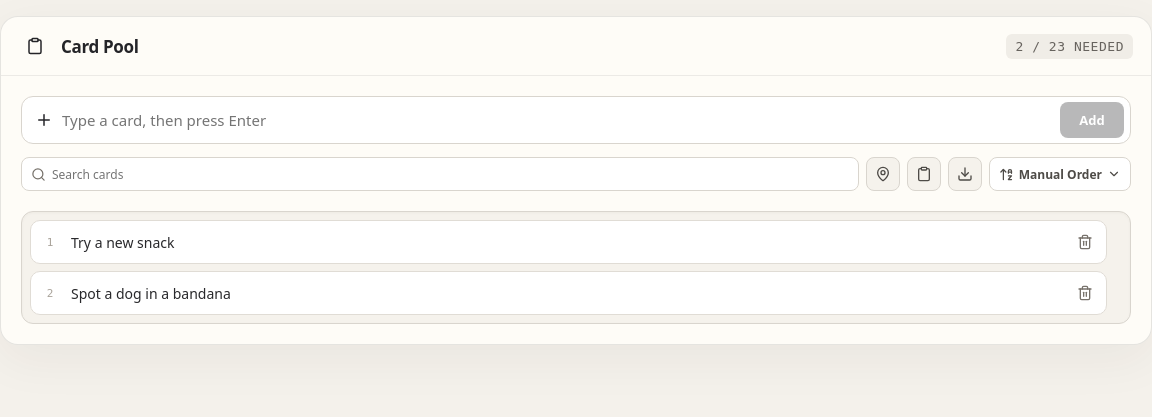
Test: Card Pool search › shows a specific empty state for searches without matches
This screenshot has width=1152, height=417.
Type "zzq" into the search field named "Search Card Pool".
click(440, 174); type("zzq")  # box top-left (22, 158), bottom-right (858, 190)
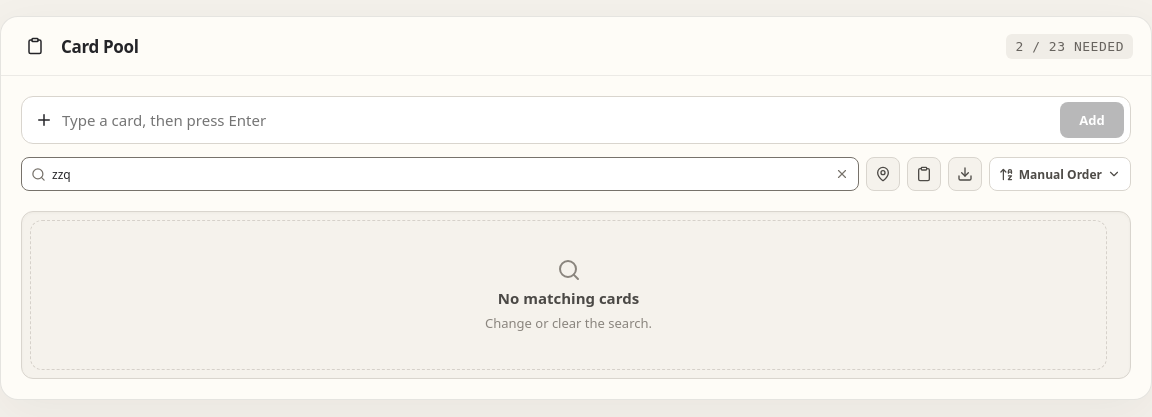
Check: the text "No matching cards" is shown, box top-left (498, 288), bottom-right (639, 308)
Check: the text "Change or clear the search." is shown, box top-left (485, 314), bottom-right (652, 332)
